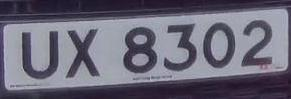0: (198, 16, 241, 73)
2: (237, 14, 277, 69)
3: (159, 19, 200, 76)
8: (119, 20, 162, 82)
U: (17, 28, 64, 83)
X: (60, 25, 104, 83)
